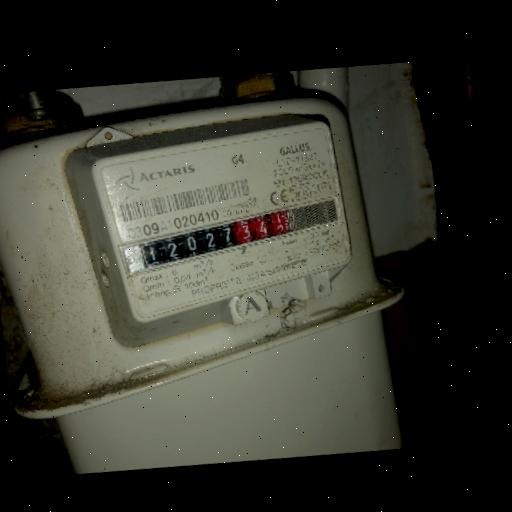0: (180, 228, 207, 259)
1: (140, 237, 171, 270), (266, 208, 293, 238)
2: (200, 224, 226, 254), (162, 234, 188, 263)
3: (229, 217, 256, 247)
4: (248, 213, 274, 242)
7: (218, 222, 237, 250)
border_water_meter_number: (135, 197, 301, 279)
